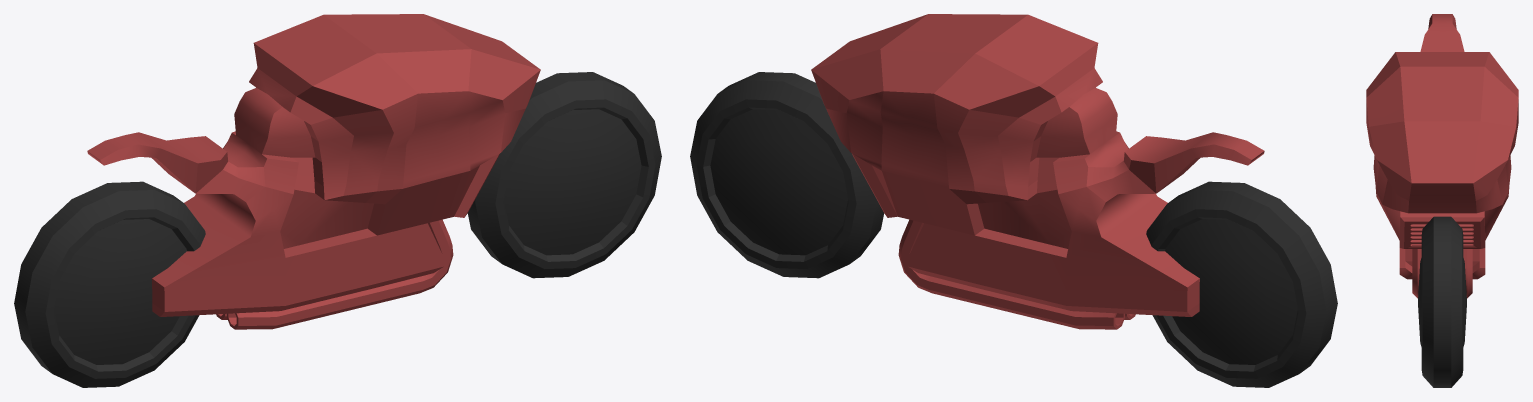
Rendered from Motorcycle v1.fbx.
The picture shows the model from 3 angles, left to right: view 1: azimuth 30°, elevation 25°; view 2: azimuth 150°, elevation 25°; view 3: azimuth 270°, elevation 25°; orthographic projection. The views are drawn at different scales.
Parts seen in each view (by area): view 1: pCube8, pCylinder14, pCylinder15, pCylinder16; view 2: pCube8, pCylinder14, pCylinder15, pCylinder17; view 3: pCube8, pCylinder14, pCylinder16, pCylinder17.
Part boxes in pixels (left/top/right/bottom): pCube8: left=87, top=14, right=540, bottom=316; pCylinder14: left=467, top=72, right=661, bottom=278; pCylinder15: left=14, top=181, right=205, bottom=387; pCylinder16: left=227, top=219, right=453, bottom=329; pCube8: left=811, top=14, right=1264, bottom=316; pCylinder14: left=690, top=72, right=884, bottom=278; pCylinder15: left=1146, top=181, right=1337, bottom=387; pCylinder17: left=898, top=219, right=1124, bottom=329; pCube8: left=1366, top=14, right=1518, bottom=279; pCylinder14: left=1418, top=216, right=1466, bottom=387; pCylinder16: left=1412, top=249, right=1421, bottom=298; pCylinder17: left=1463, top=249, right=1472, bottom=298.
Size of the model in its own units: 248 by 108 by 64.61.
